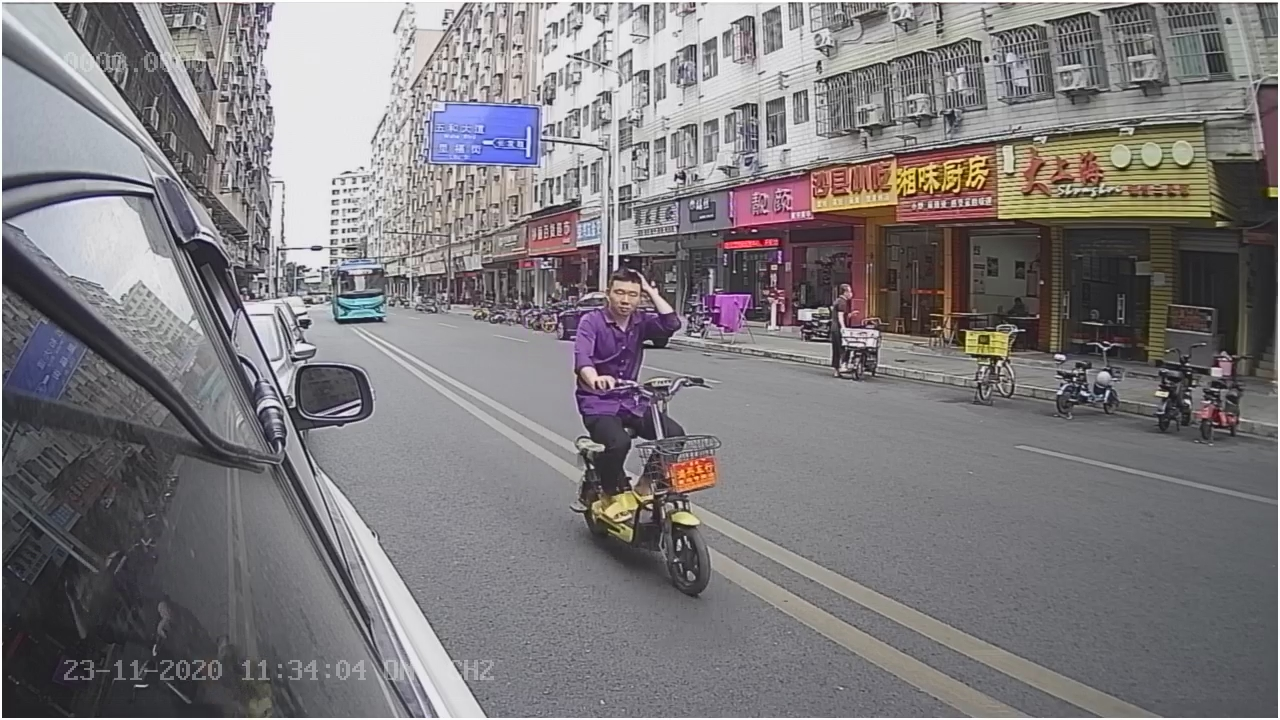person: (573, 265, 681, 392)
